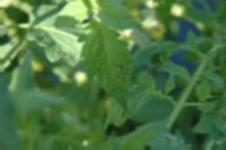Tomato leaf bacterial spot: (74, 15, 135, 116)
